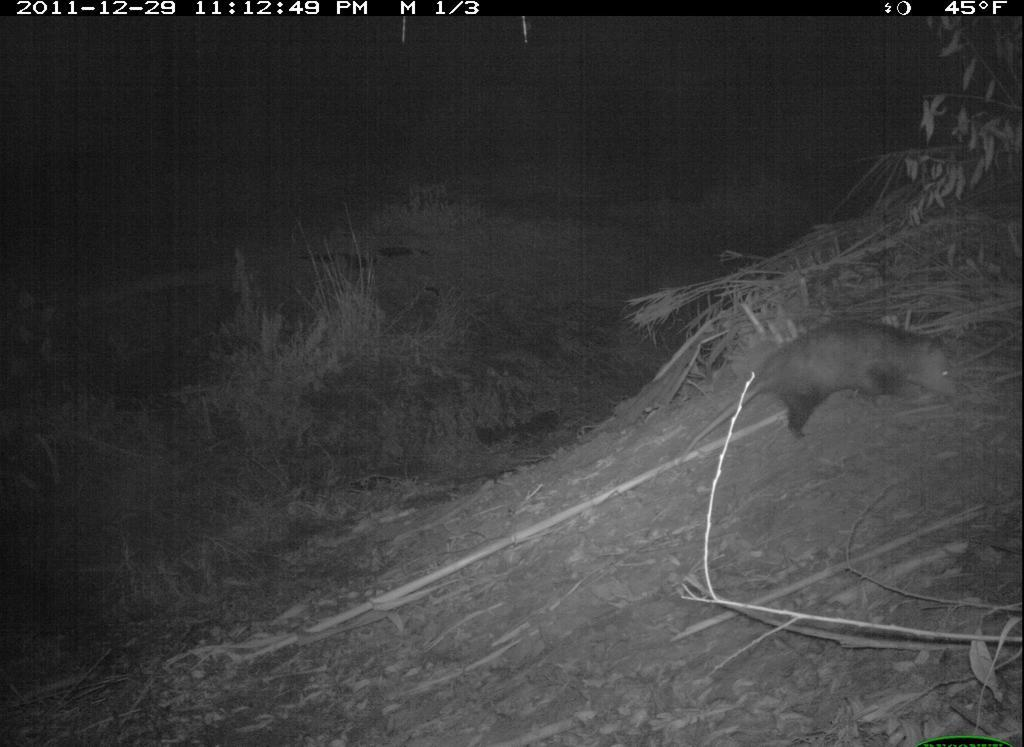opossum: (681, 312, 962, 472)
